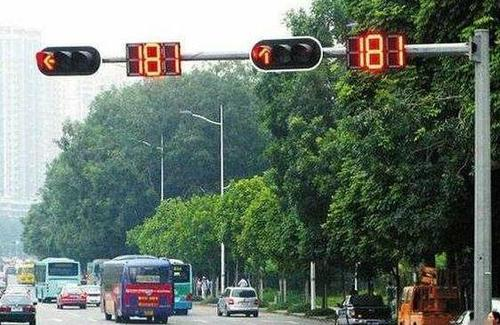red: (249, 35, 323, 73), (34, 44, 102, 79)
